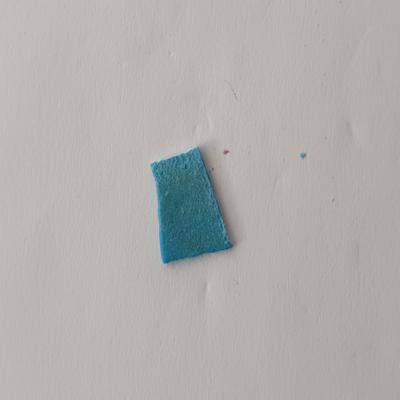plastic: (144, 141, 240, 269)
